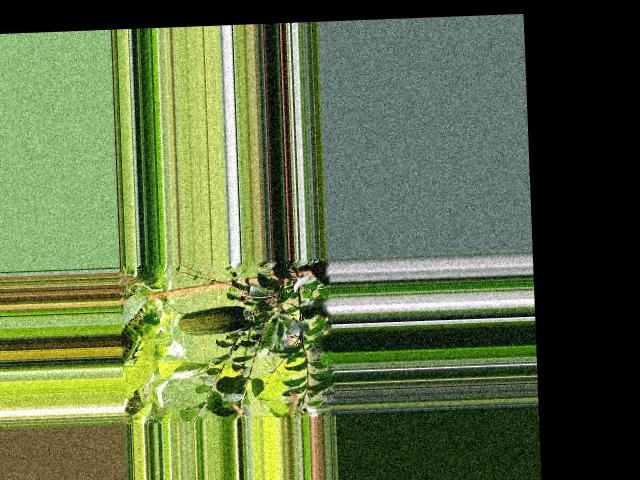cucumber: (177, 304, 254, 335)
